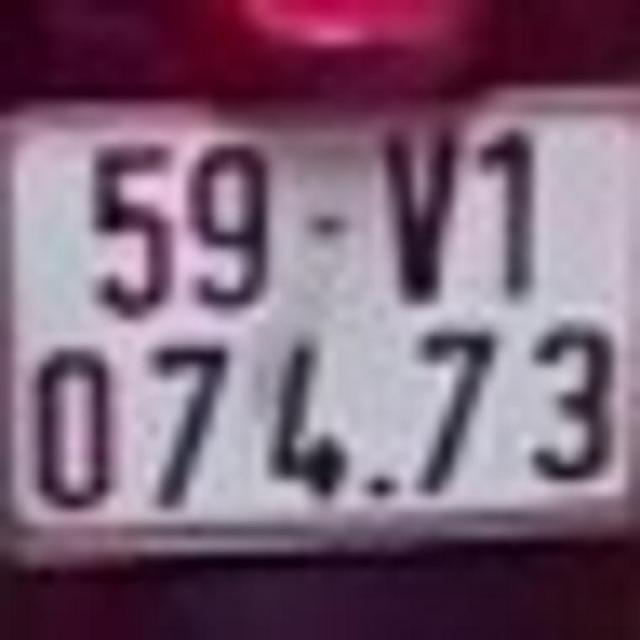0: (28, 339, 116, 511)
1: (472, 116, 548, 308)
3: (524, 313, 618, 490)
4: (260, 334, 352, 498)
5: (84, 132, 183, 322)
7: (406, 320, 498, 500), (148, 338, 231, 505)
9: (187, 131, 274, 319)
V: (372, 122, 464, 304)
